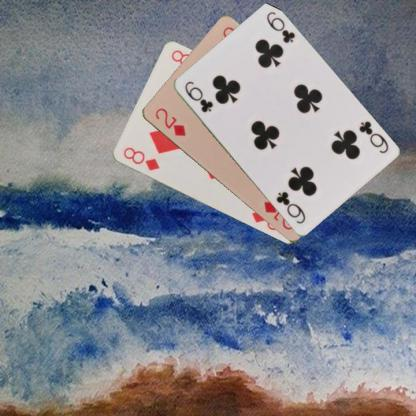2d: (152, 105, 188, 138)
6c: (181, 78, 214, 115), (356, 118, 389, 155)
8d: (120, 145, 161, 172)
